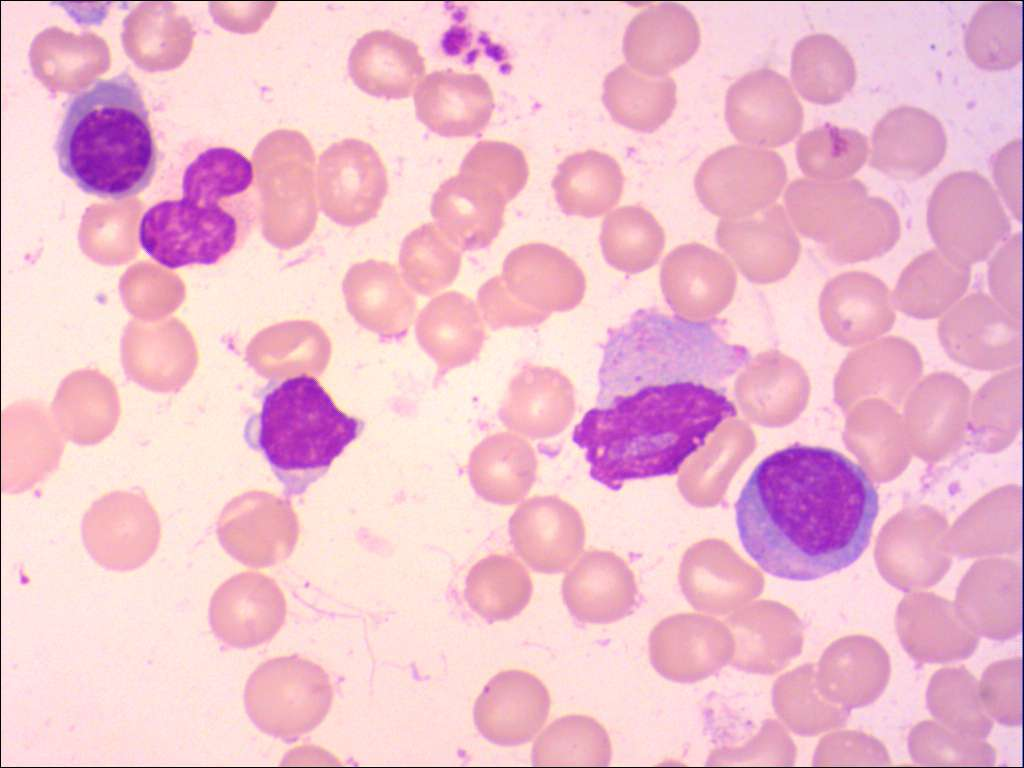23: (49, 65, 161, 205)
32: (240, 369, 370, 504)
5: (133, 133, 261, 275)
51: (730, 438, 883, 586)
x: (571, 305, 757, 495)
